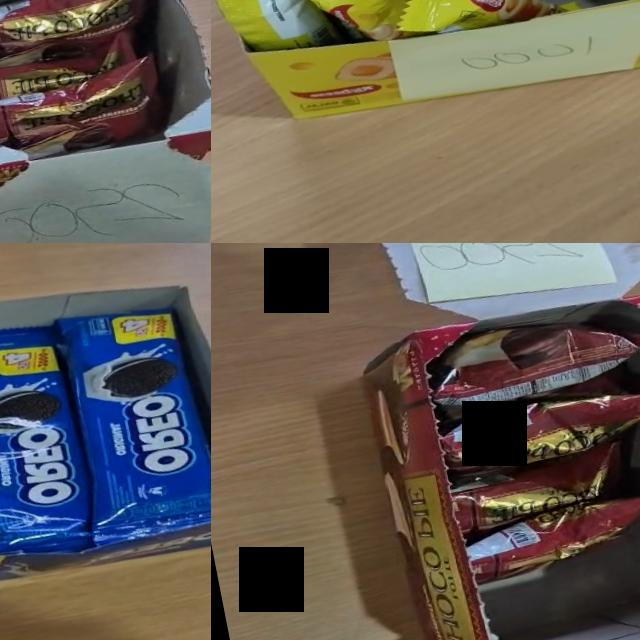Ahh: (211, 0, 349, 71), (384, 0, 571, 45), (288, 0, 427, 57)
Chocopie: (419, 301, 640, 415), (432, 370, 640, 481), (0, 53, 171, 172), (446, 438, 631, 536), (462, 489, 640, 586), (0, 0, 162, 80), (0, 29, 143, 108)
Oreo: (48, 292, 211, 548), (0, 312, 106, 573)
